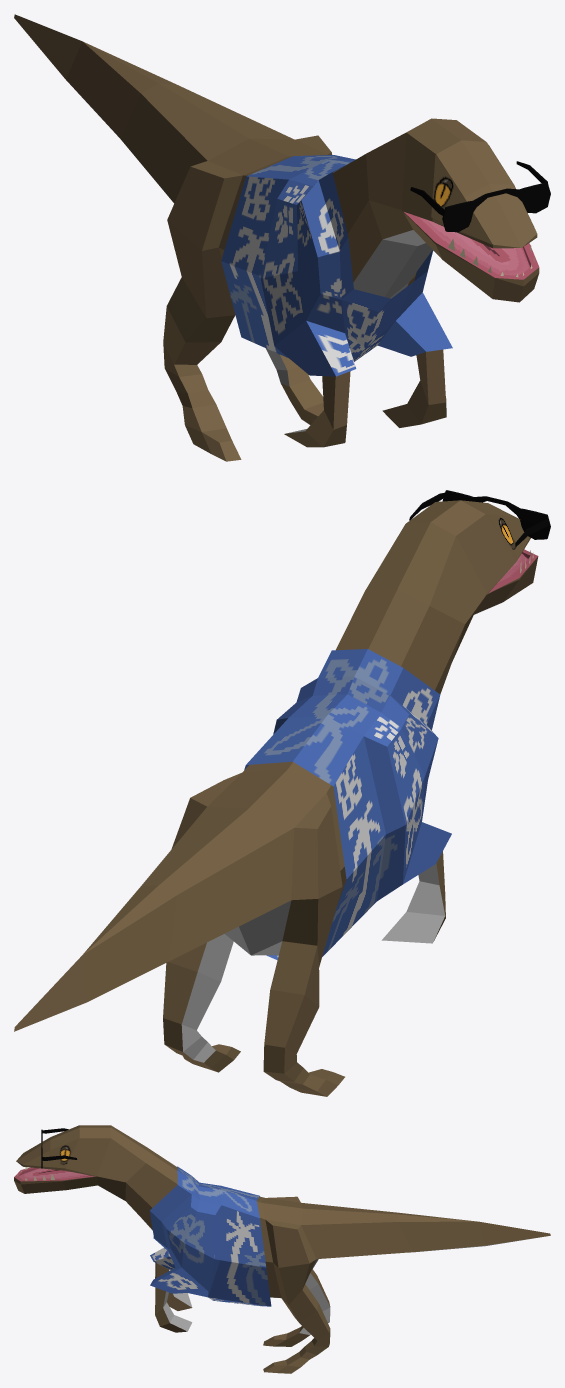
File: Tourist Raptor_V2.fbx
3 views of the same model, one above another, from view 1: azimuth 30°, elevation 25°; view 2: azimuth 150°, elevation 25°; view 3: azimuth 270°, elevation 25° (orthographic). The views are drawn at different scales.
Parts seen in each view (by area): view 1: Tourist Raptor.001; view 2: Tourist Raptor.001; view 3: Tourist Raptor.001.
Boxes of the visible parts, <box> form: Tourist Raptor.001: <box>14,14,550,461</box>; Tourist Raptor.001: <box>14,490,550,1096</box>; Tourist Raptor.001: <box>14,1125,550,1373</box>.
Size of the model in its own units: 23.89 by 65.67 by 139.
